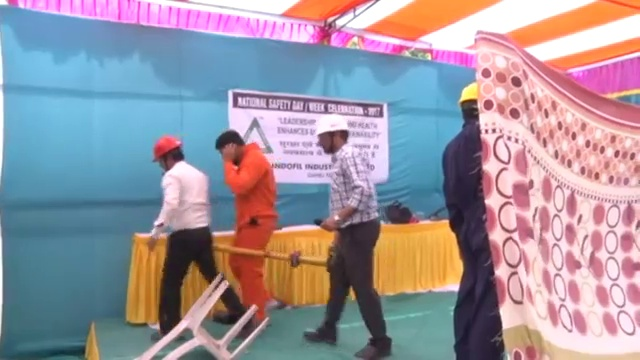helmet: (148, 134, 183, 165), (314, 111, 350, 137), (456, 79, 480, 106)
helmet_off: (215, 130, 245, 162)
helmet_on: (313, 111, 349, 156), (148, 134, 184, 176), (453, 76, 482, 127)
person: (144, 133, 244, 341), (310, 111, 391, 360), (437, 76, 508, 358), (213, 130, 278, 328)
